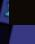helmet: (9, 0, 35, 25)
recallP: (0, 0, 9, 25)
